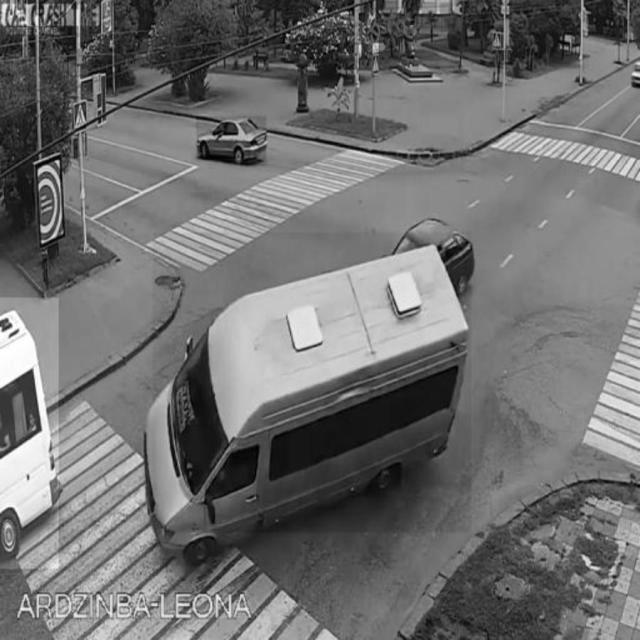accident: (153, 232, 471, 533)
vehicle: (0, 297, 58, 568), (196, 116, 266, 158)
